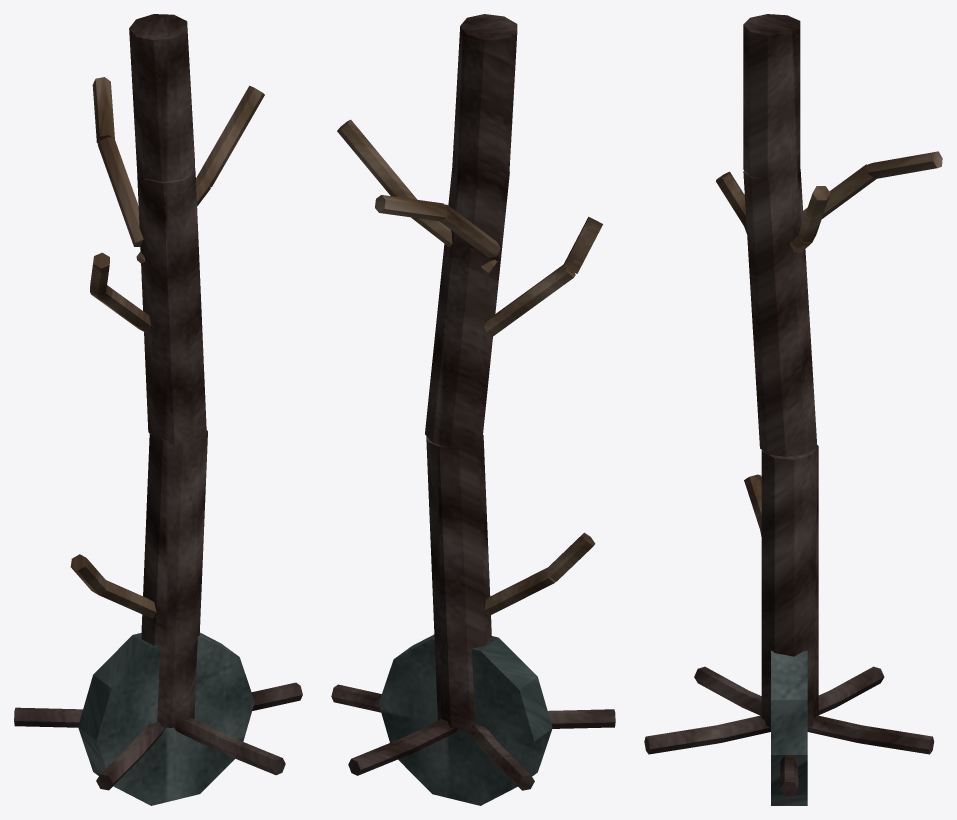
File: 0144_dead_tree_19.glb
The picture shows the model from 3 angles, left to right: view 1: azimuth 30°, elevation 25°; view 2: azimuth 150°, elevation 25°; view 3: azimuth 270°, elevation 25°; orthographic projection.
Visible parts, largest first — view 1: wood_dark, stone_dark, wood; view 2: wood_dark, stone_dark, wood; view 3: wood_dark, stone_dark, wood.
Boxes of the visible parts, left/top/right/bottom form: wood_dark: left=14, top=14, right=302, bottom=790; stone_dark: left=78, top=632, right=254, bottom=805; wood: left=70, top=77, right=264, bottom=618; wood_dark: left=331, top=14, right=615, bottom=790; stone_dark: left=378, top=634, right=552, bottom=805; wood: left=337, top=119, right=602, bottom=617; wood_dark: left=644, top=14, right=934, bottom=796; stone_dark: left=771, top=650, right=807, bottom=805; wood: left=716, top=151, right=942, bottom=536.
Size of the model in its own units: 1.67 by 5.07 by 1.8.
3 materials, 3 textured.
